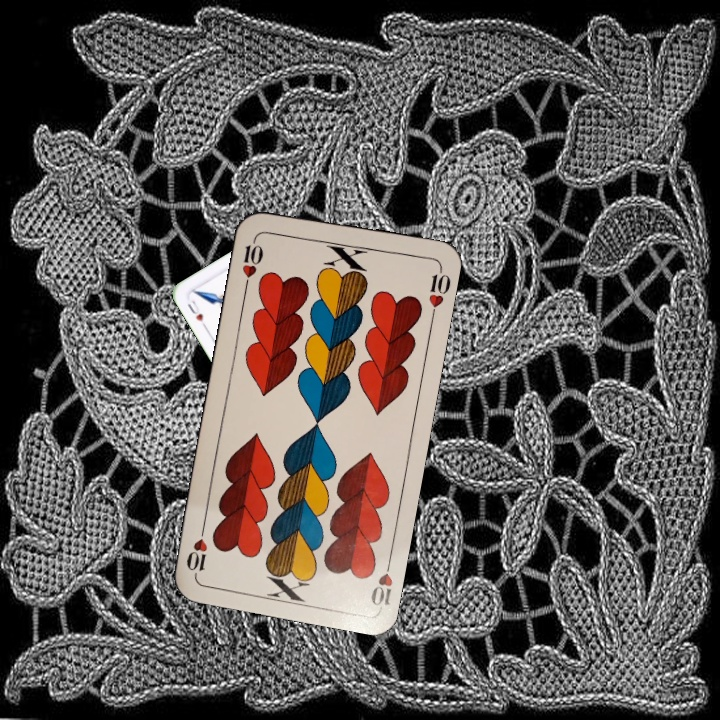H10: (367, 551, 396, 610), (238, 232, 266, 291)
HU: (183, 296, 209, 331)
